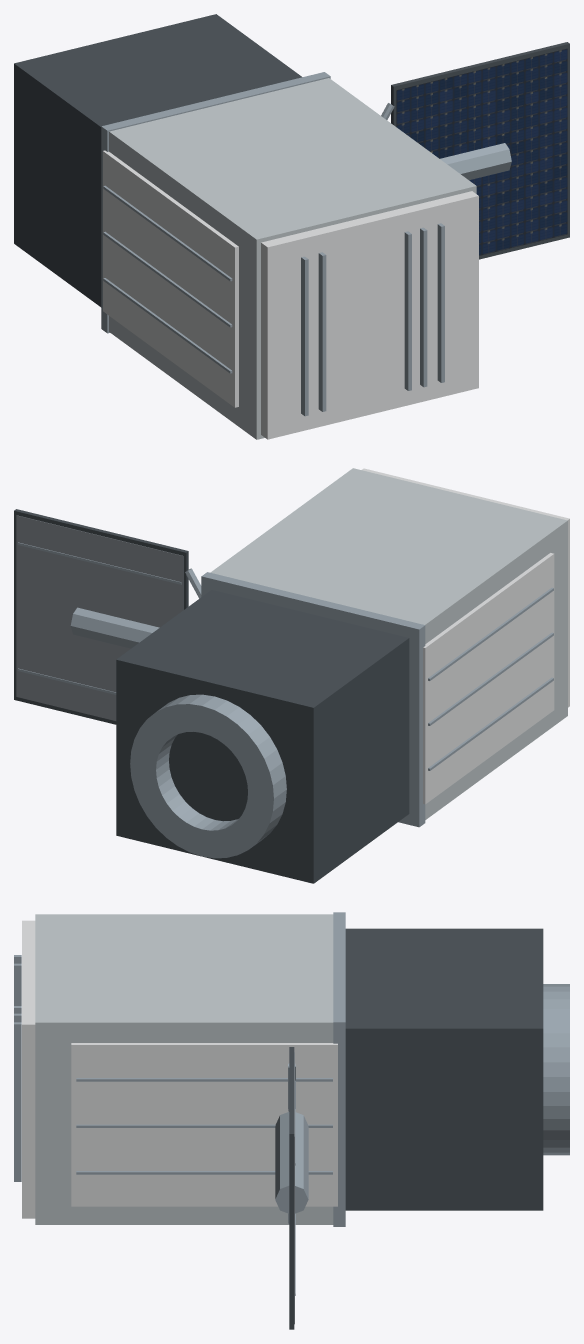
Rendered from ref-cubesat-16u-56372.glb.
3 views of the same model, one above another, from view 1: azimuth 30°, elevation 25°; view 2: azimuth 150°, elevation 25°; view 3: azimuth 270°, elevation 25° (orthographic). The views are drawn at different scales.
Visible parts, largest first — view 1: Payload module, Earth-facing deck, Service module, Solar cell panel, Radiator face, Deck heat pipe (×5), Solar panel frame, Module interface, Radiator seam (×3), Array drive; view 2: Service module, Payload module, Rear array substrate, Radiator face, Launch adapter ring, Module interface, Solar panel frame, Array drive, Radiator seam (×3), Earth-facing deck, Rear stiffener; view 3: Service module, Payload module, Radiator face, Launch adapter ring, Earth-facing deck, Module interface, Radiator seam (×3), Array drive, Solar panel frame, Deck heat pipe.
Part boxes in pixels (x1,y1,x2,y2): Payload module: (109,78,476,439); Earth-facing deck: (261,191,478,439); Service module: (14,14,302,307); Solar cell panel: (396,48,567,255); Radiator face: (103,150,238,407); Deck heat pipe (×5): (301,223,444,416); Solar panel frame: (391,42,569,259); Module interface: (101,72,330,333); Radiator seam (×3): (103,185,232,373); Array drive: (440,143,511,180); Service module: (116,590,409,883); Payload module: (210,468,567,819); Rear array substrate: (16,515,183,720); Radiator face: (423,553,554,804); Launch adapter ring: (130,694,286,858); Module interface: (201,572,425,827); Solar panel frame: (14,509,188,724); Array drive: (70,607,159,648); Radiator seam (×3): (428,587,553,770); Earth-facing deck: (361,468,569,707); Rear stiffener: (17,542,181,584); Service module: (345,928,543,1210); Payload module: (35,914,333,1224); Radiator face: (71,1043,337,1206); Launch adapter ring: (543,984,569,1155); Earth-facing deck: (22,920,35,1218); Module interface: (333,912,345,1226); Radiator seam (×3): (76,1078,332,1174); Array drive: (275,1112,308,1213); Solar panel frame: (289,1047,294,1329); Deck heat pipe: (14,1022,21,1181).
Bounding box in the file's own units: 0.4048 × 0.1761 × 0.4334.
6 materials, 1 textured.
